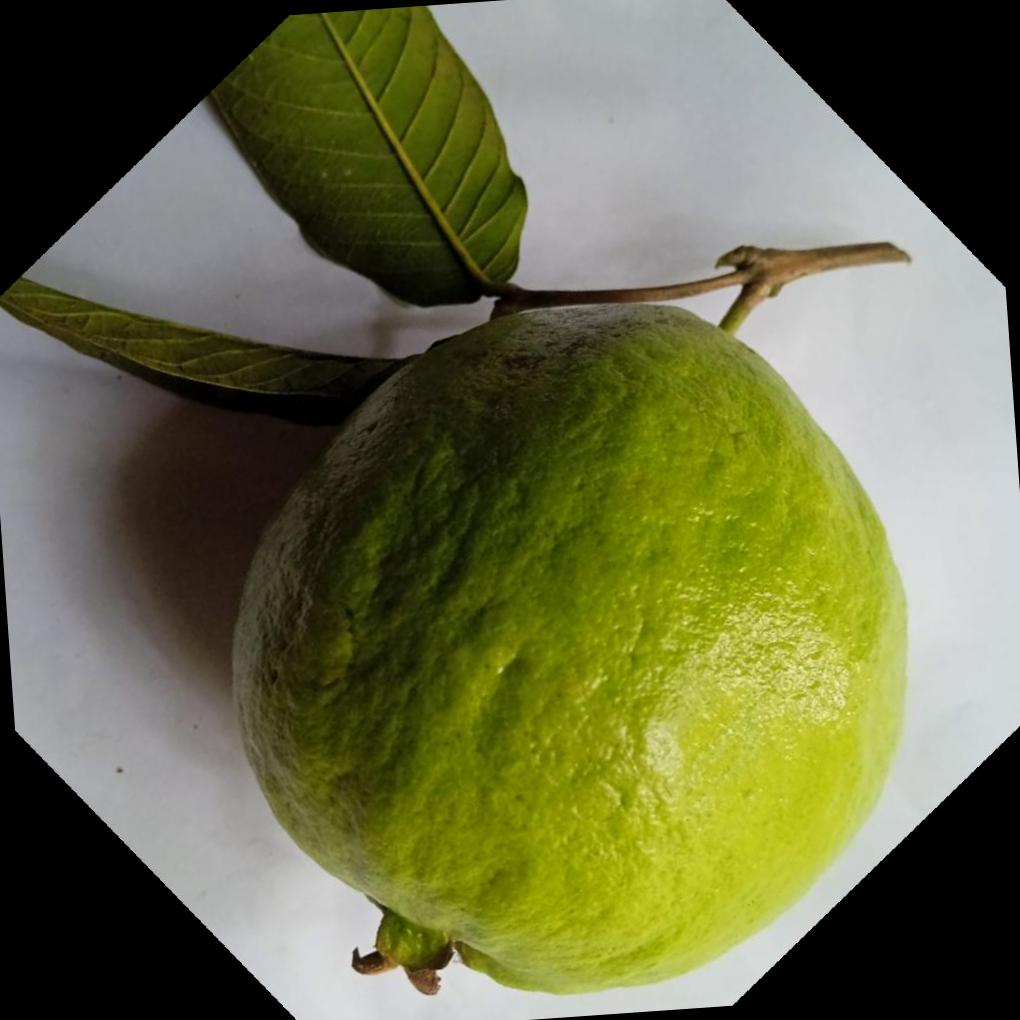FreshGuava: (229, 247, 912, 996)
